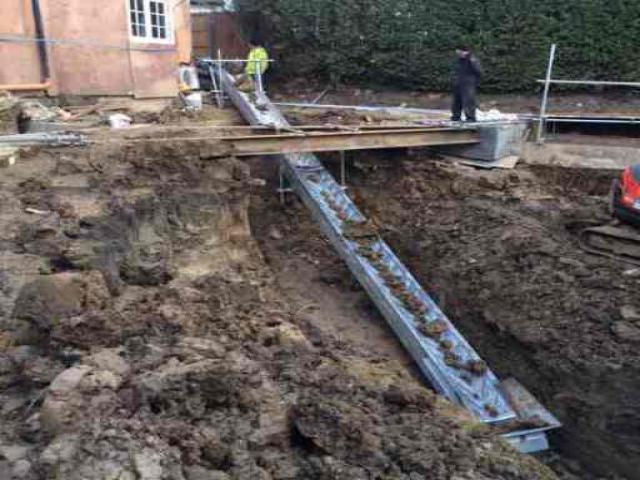conveyor: (206, 70, 558, 452)
